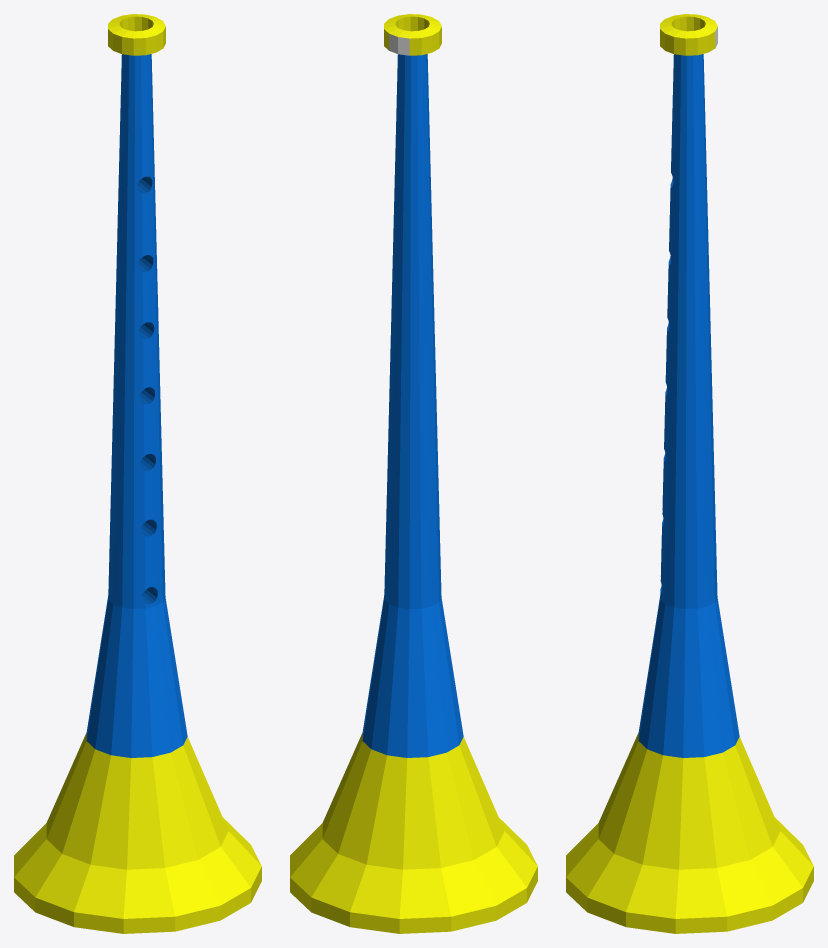
File: flute.fbx
The picture shows the model from 3 angles, left to right: view 1: azimuth 30°, elevation 25°; view 2: azimuth 150°, elevation 25°; view 3: azimuth 270°, elevation 25°; orthographic projection.
Visible parts, largest first — view 1: Cylinder; view 2: Cylinder; view 3: Cylinder.
Part boxes in pixels (x1=…): Cylinder: x1=14, y1=14, x2=261, y2=933; Cylinder: x1=290, y1=14, x2=537, y2=933; Cylinder: x1=566, y1=14, x2=813, y2=933.
Bounding box in the file's own units: 58.91 × 225 × 58.58.
